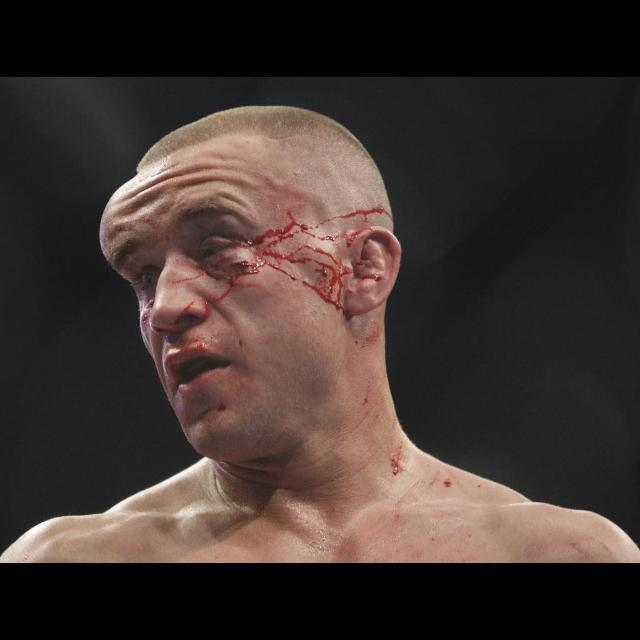blood: (198, 206, 399, 317)
